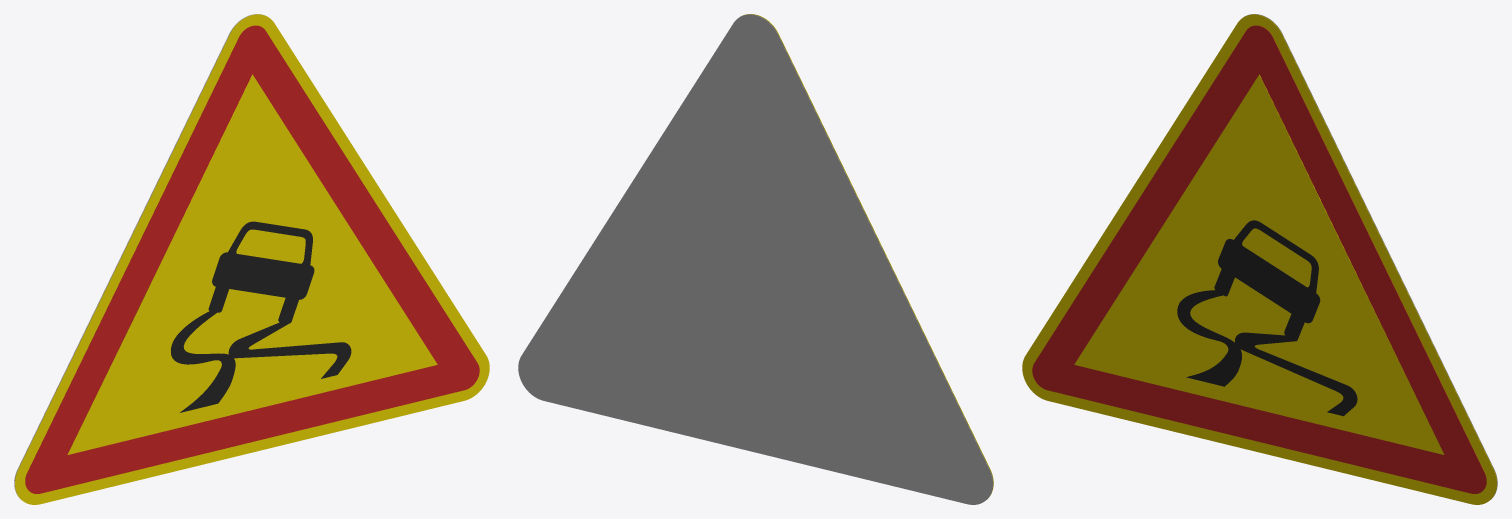
3 renders of one model, left to right at view 1: azimuth 30°, elevation 25°; view 2: azimuth 150°, elevation 25°; view 3: azimuth 330°, elevation 25°, orthographic.
Visible parts, largest first — view 1: AK4_p02, AK4_p01, AK4_p00, AK4_p05, AK4_p03, AK4_p04, AK4_dos; view 2: AK4_dos, AK4_p00; view 3: AK4_p02, AK4_p01, AK4_p00, AK4_p05, AK4_p03, AK4_p04, AK4_dos.
Part boxes in pixels (left/top/right/bottom): AK4_p02: left=67, top=74, right=437, bottom=454; AK4_p01: left=25, top=25, right=479, bottom=493; AK4_p00: left=15, top=14, right=489, bottom=504; AK4_p05: left=208, top=221, right=314, bottom=323; AK4_p03: left=171, top=311, right=235, bottom=412; AK4_p04: left=228, top=322, right=351, bottom=378; AK4_dos: left=14, top=14, right=267, bottom=499; AK4_dos: left=518, top=14, right=992, bottom=504; AK4_p00: left=740, top=14, right=993, bottom=499; AK4_p02: left=1074, top=74, right=1444, bottom=454; AK4_p01: left=1032, top=25, right=1486, bottom=493; AK4_p00: left=1022, top=14, right=1496, bottom=504; AK4_p05: left=1214, top=220, right=1320, bottom=341; AK4_p03: left=1177, top=290, right=1241, bottom=386; AK4_p04: left=1235, top=332, right=1357, bottom=416; AK4_dos: left=1244, top=14, right=1497, bottom=499.
Bounding box in the file's own units: 0.7 × 0.6162 × 0.0039.
